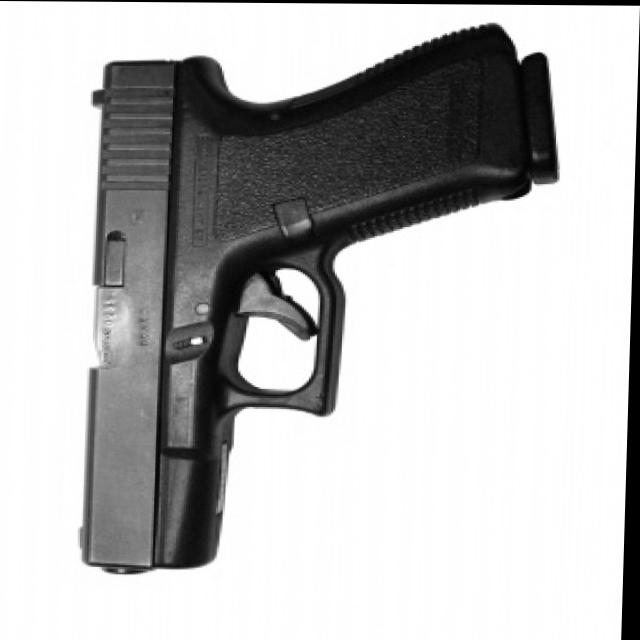handgun: (54, 11, 563, 585)
